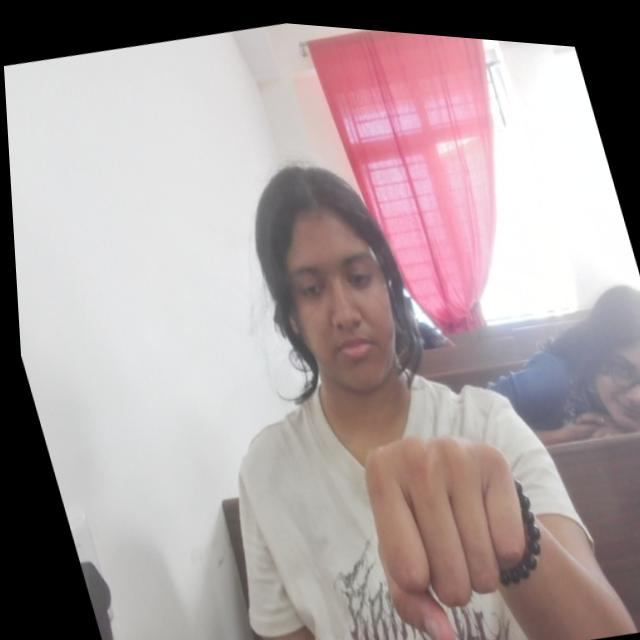yes: (338, 400, 560, 640)
